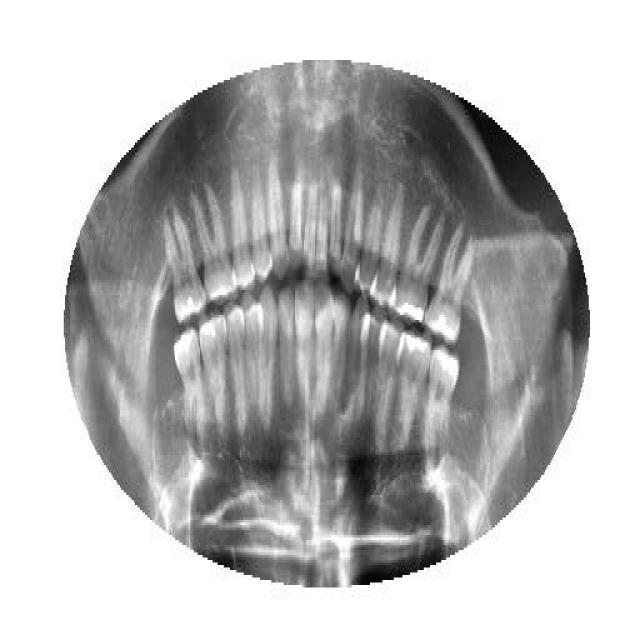Fillings: (389, 205, 445, 325), (424, 222, 475, 342), (164, 207, 206, 325), (395, 333, 431, 445), (198, 310, 228, 435), (424, 345, 460, 440), (173, 325, 205, 430)
